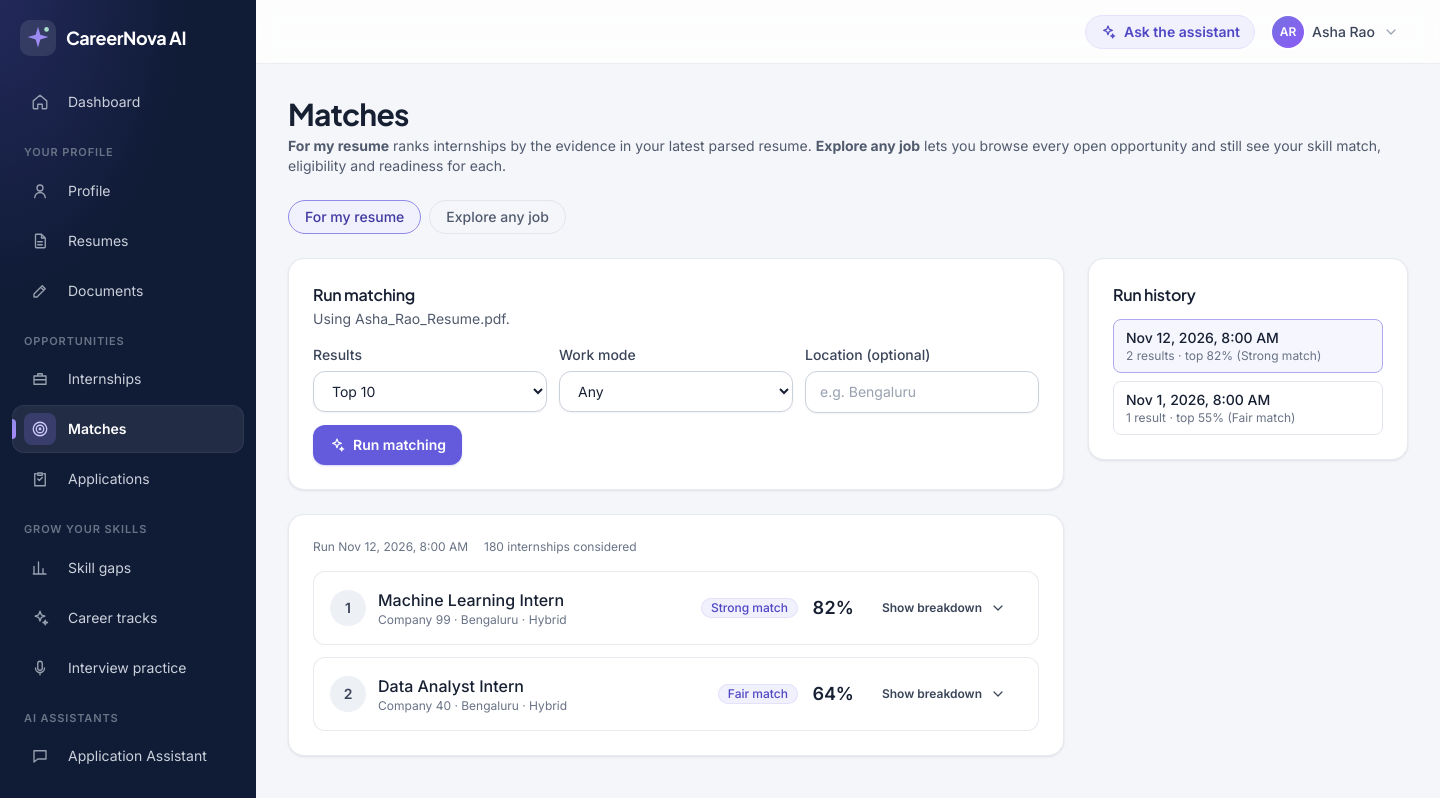
Matches page › validates the location filter before running
In the field labelled "Location (optional)": (922, 392) left=805, top=371, right=1039, bottom=413, type "P"
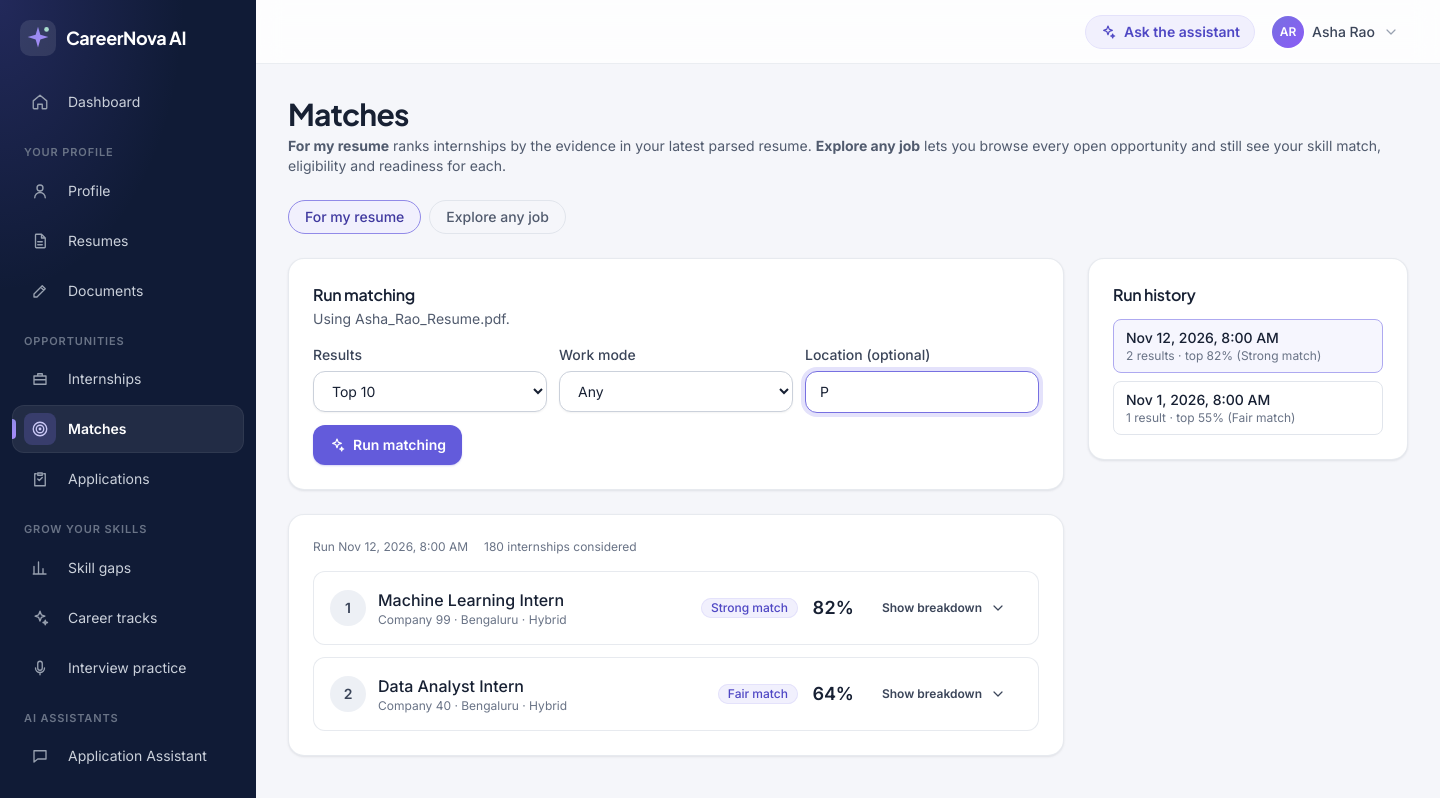
Click the button "Run matching": (388, 445) left=313, top=425, right=462, bottom=465
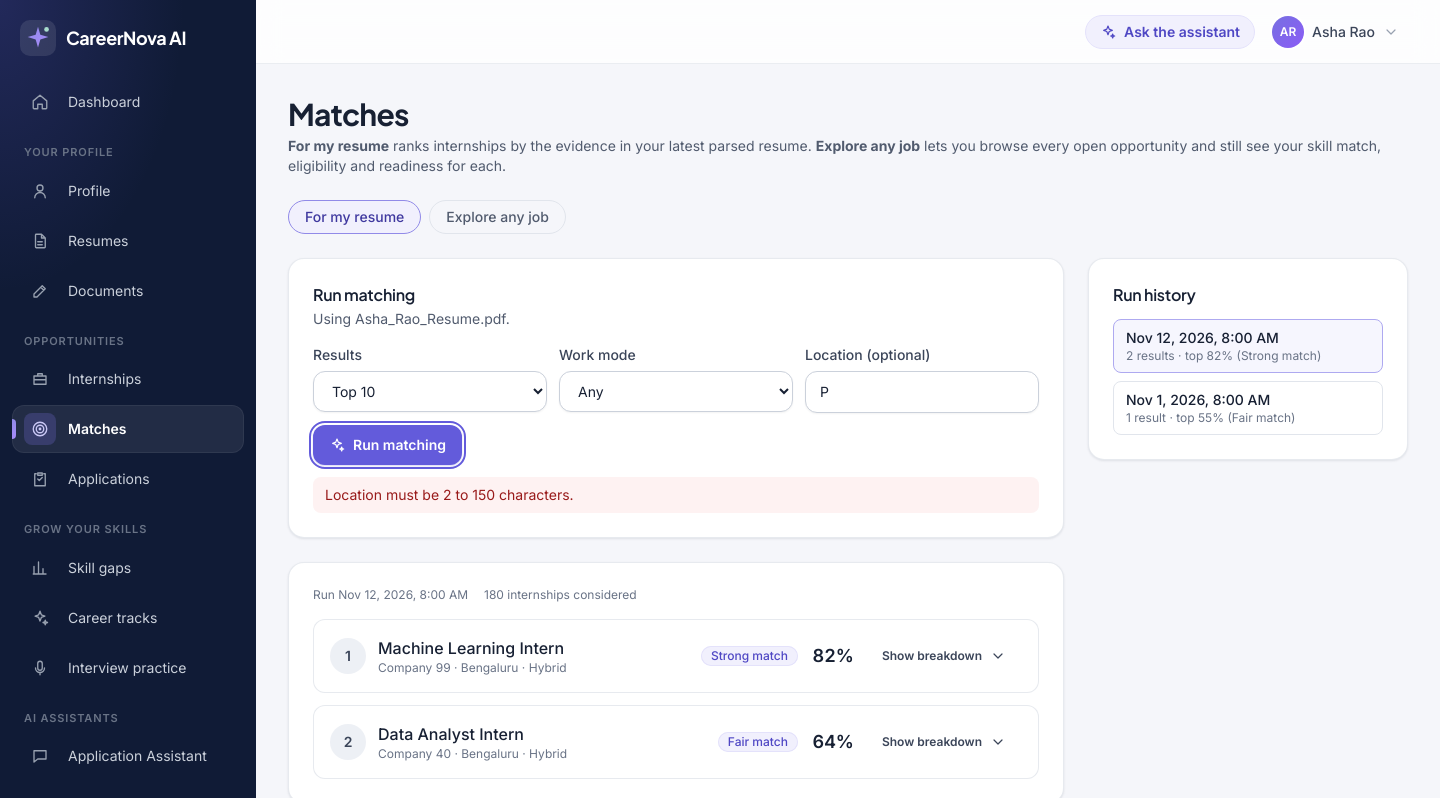
Now the message reads "Location must be 2 to 150 characters.", box left=325, top=486, right=574, bottom=503
